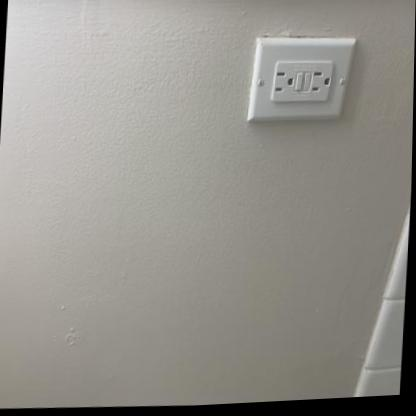OUTLET: (248, 31, 351, 125)
